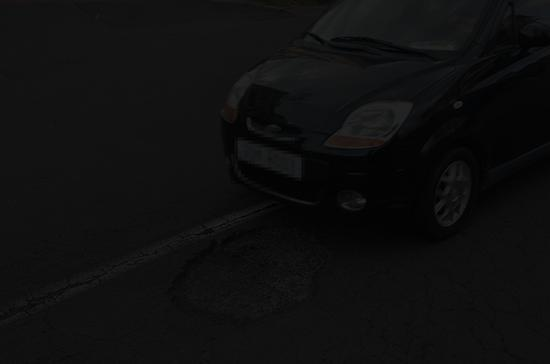pothole: (169, 214, 342, 332)
